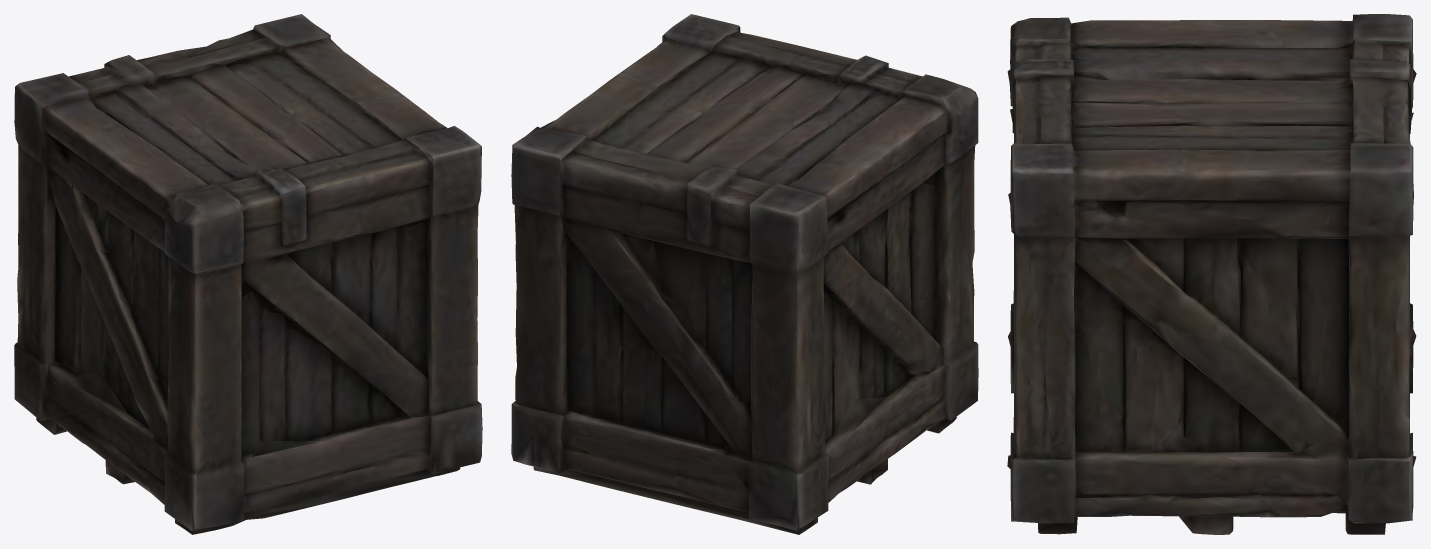
File: reinforced-crate.glb
3 views of the same model, side by side, from view 1: azimuth 30°, elevation 25°; view 2: azimuth 150°, elevation 25°; view 3: azimuth 270°, elevation 25° (orthographic). The views are drawn at different scales.
Parts seen in each view (by area): view 1: tripo_node_6f448570-0893-464f-95e9-5c1fe5143436; view 2: tripo_node_6f448570-0893-464f-95e9-5c1fe5143436; view 3: tripo_node_6f448570-0893-464f-95e9-5c1fe5143436.
Part boxes in pixels (x1,y1,x2,y2): tripo_node_6f448570-0893-464f-95e9-5c1fe5143436: [14, 14, 482, 534]; tripo_node_6f448570-0893-464f-95e9-5c1fe5143436: [511, 14, 978, 534]; tripo_node_6f448570-0893-464f-95e9-5c1fe5143436: [1007, 14, 1416, 534].
Size of the model in its own units: 0.9131 by 1 by 0.9856.
Materials: 1 (1 with a texture image).
